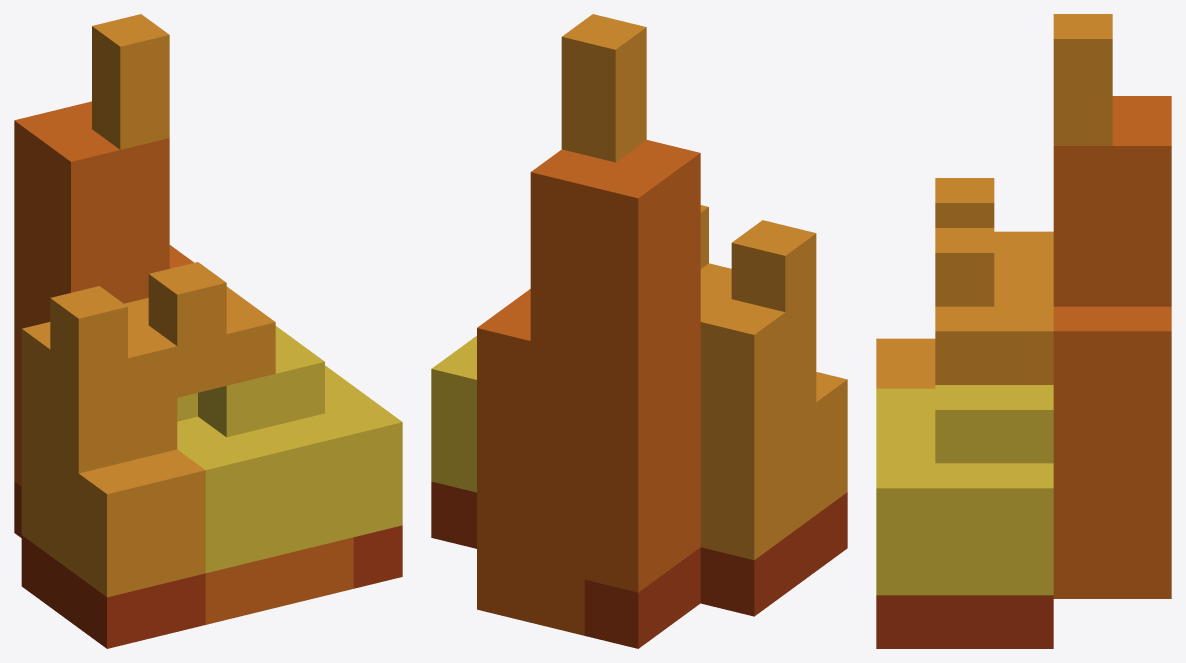
The model's file is flame_01.glb.
3 renders of one model, left to right at view 1: azimuth 30°, elevation 25°; view 2: azimuth 150°, elevation 25°; view 3: azimuth 270°, elevation 25°, orthographic. The views are drawn at different scales.
Visible parts, largest first — view 1: flame_01; view 2: flame_01; view 3: flame_01.
Part boxes in pixels (left/top/right/bottom): flame_01: left=14, top=14, right=402, bottom=648; flame_01: left=431, top=14, right=847, bottom=648; flame_01: left=876, top=14, right=1171, bottom=648.
Size of the model in its own units: 0.75 by 1.25 by 0.625.
